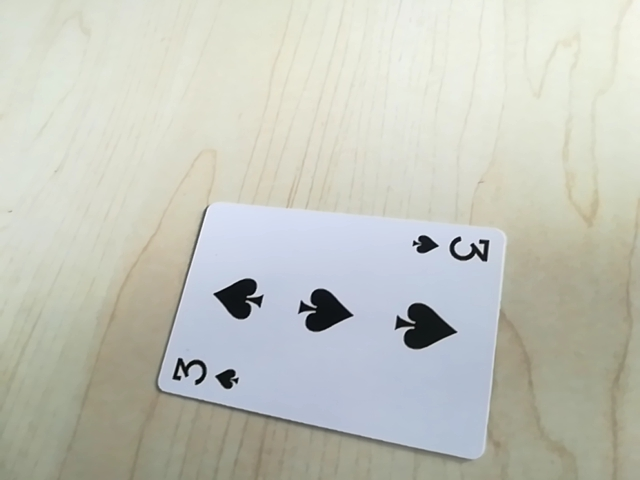ht 3: (408, 229, 495, 268), (164, 352, 245, 393)
